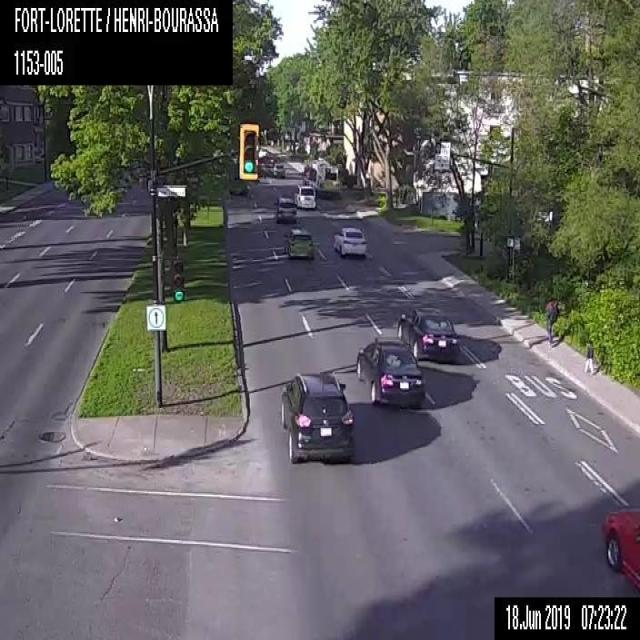bus: (302, 155, 340, 197)
pedestrian: (545, 293, 558, 344), (582, 336, 594, 375)
vehicle: (278, 369, 355, 462), (353, 340, 423, 408), (599, 504, 639, 596), (397, 305, 458, 362), (333, 225, 366, 257), (283, 228, 315, 260), (273, 194, 296, 224), (294, 184, 316, 208), (226, 175, 248, 195), (270, 160, 285, 178)
